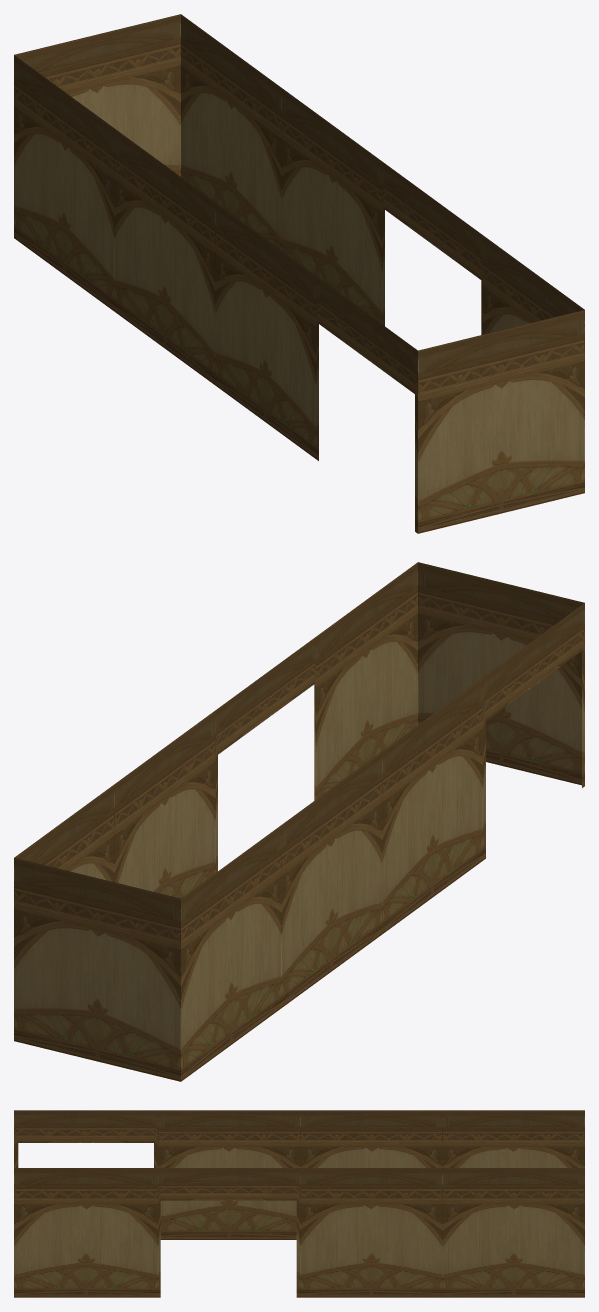
File: Homeworld_Interior_Xm_Room_O_Filling_01_Vo.fbx
3 renders of one model, top to bottom at view 1: azimuth 30°, elevation 25°; view 2: azimuth 150°, elevation 25°; view 3: azimuth 270°, elevation 25°, orthographic. The views are drawn at different scales.
Visible parts, largest first — view 1: Homeworld_Interior_Xm_Room_O_Filling_01_Vo; view 2: Homeworld_Interior_Xm_Room_O_Filling_01_Vo; view 3: Homeworld_Interior_Xm_Room_O_Filling_01_Vo.
Boxes of the visible parts, <box> form: Homeworld_Interior_Xm_Room_O_Filling_01_Vo: <box>14,14,584,533</box>; Homeworld_Interior_Xm_Room_O_Filling_01_Vo: <box>14,562,584,1081</box>; Homeworld_Interior_Xm_Room_O_Filling_01_Vo: <box>14,1110,584,1297</box>.
Bounding box in the file's own units: 4.75 × 4.98 × 19.9.
